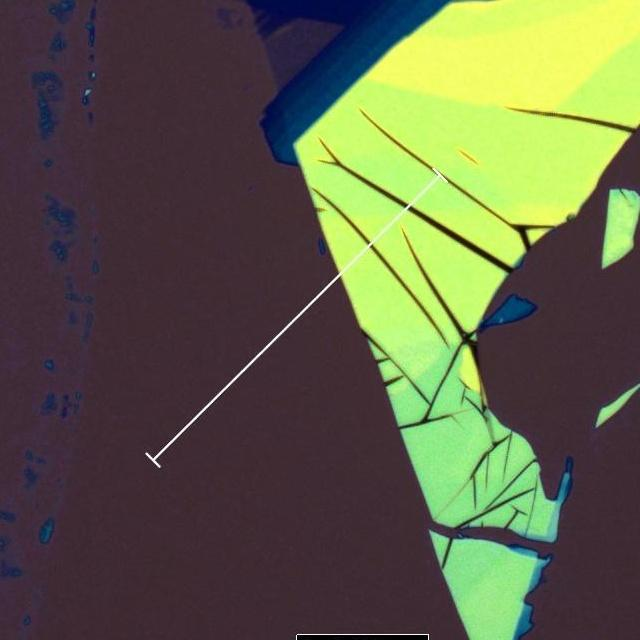monolayer-eWW4: (266, 15, 343, 99)
